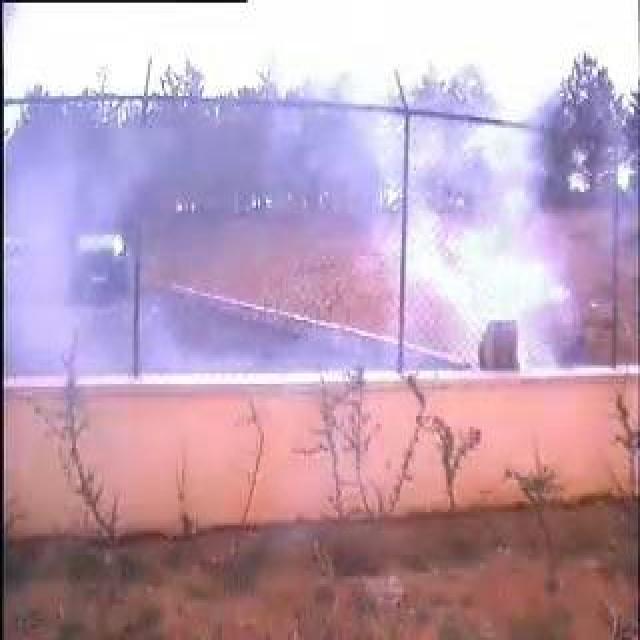Smoke: (34, 108, 558, 364)
